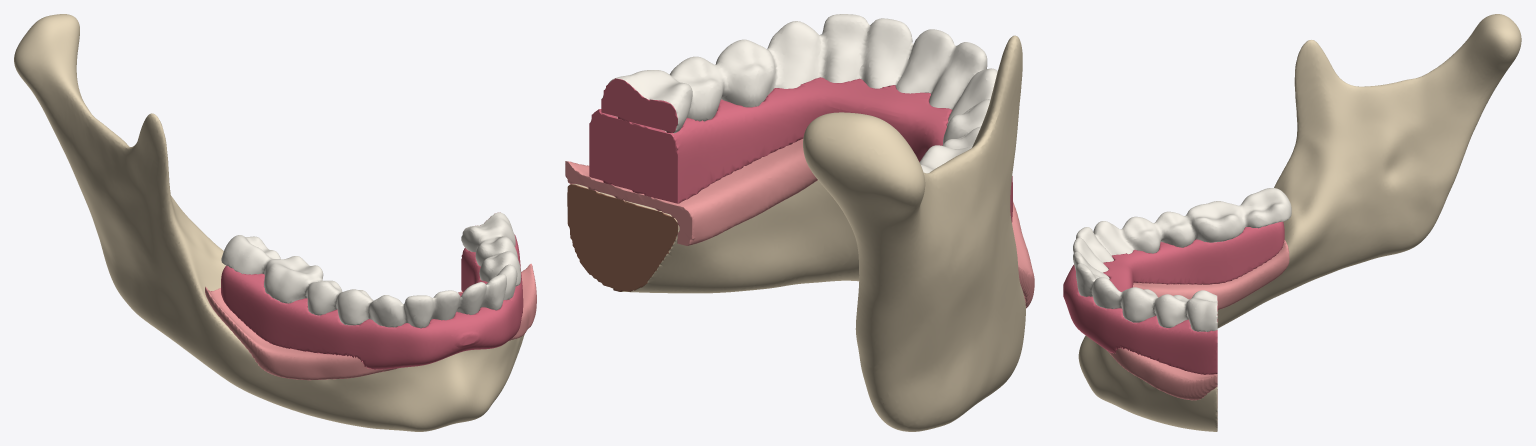
The model's file is denture-cut.glb.
3 renders of one model, left to right at view 1: azimuth 30°, elevation 25°; view 2: azimuth 150°, elevation 25°; view 3: azimuth 270°, elevation 25°, orthographic. The views are drawn at different scales.
Parts seen in each view (by area): view 1: bone, denture, denture_teeth, gum; view 2: bone, denture_teeth, denture, gum; view 3: bone, denture, denture_teeth, gum.
Boxes of the visible parts, x1,y1,x2,y2 form: bone: [14, 14, 524, 431]; denture: [221, 234, 523, 369]; denture_teeth: [221, 212, 520, 328]; gum: [205, 263, 536, 380]; bone: [567, 35, 1025, 431]; denture_teeth: [601, 14, 997, 173]; denture: [589, 77, 1012, 222]; gum: [565, 139, 1034, 308]; bone: [1078, 14, 1521, 431]; denture: [1063, 221, 1284, 374]; denture_teeth: [1073, 188, 1291, 331]; gum: [1106, 240, 1289, 400].
Size of the model in its own units: 86.56 by 67.95 by 98.73.
